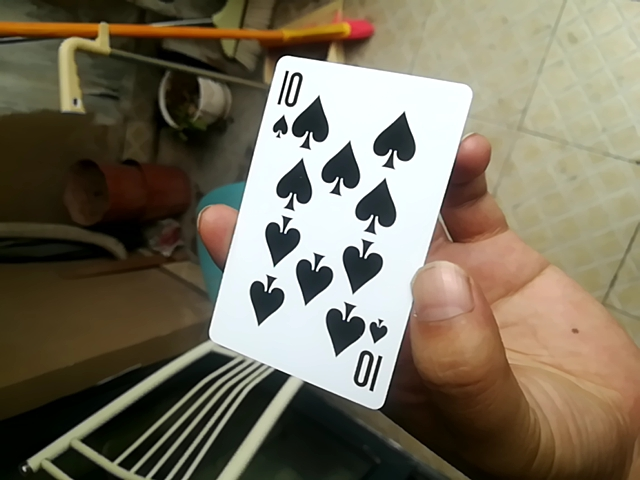ht 10: (200, 53, 466, 413)
